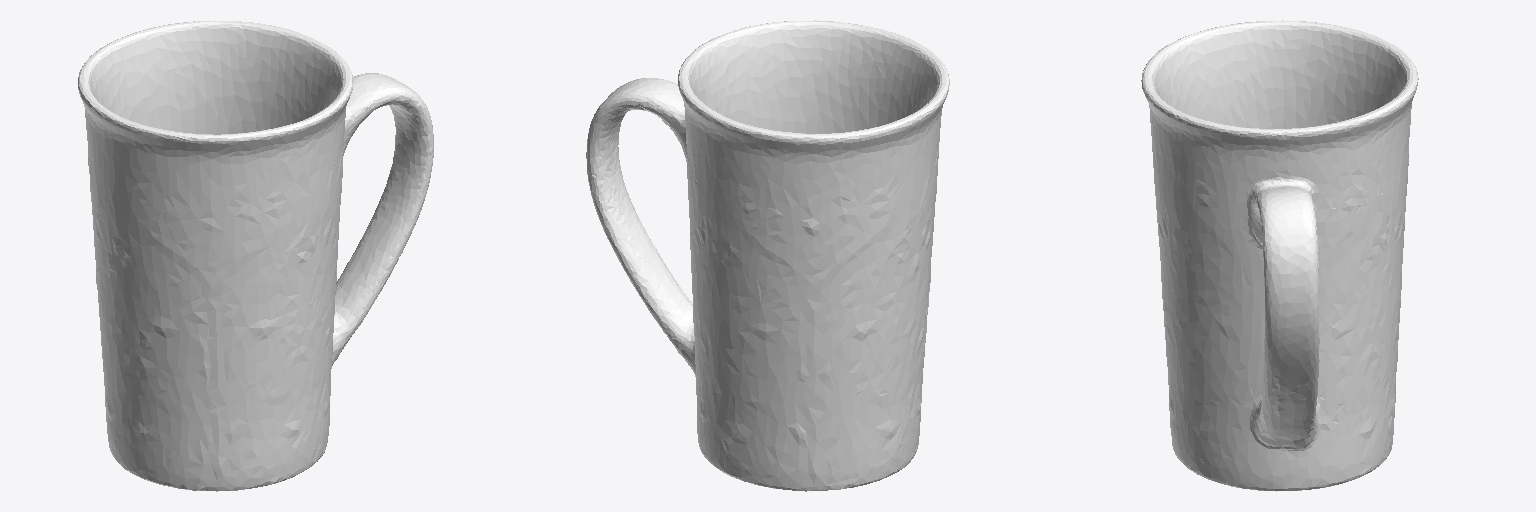
The robot description file, URDF, robot "model":
<?xml version="1.0" ?>
    <robot name="model">
    <link name="base">
        <inertial>
            <origin rpy="0 0 0" xyz="0 0 0"/>
            <mass value="1.0"/>
            <inertia ixx="1" ixy="0" ixz="0" iyy="1" iyz="0" izz="1"/>
        </inertial>
    <visual>
        <origin rpy="0 0 0" xyz="0 0 0"/>
        <geometry>
        <mesh filename="./meshes/model.obj" scale="1 1 1"/>
        </geometry>
        <material name="white">
        <color rgba="1 1 1 1"/>
        </material>
    </visual>
    <collision>
        <origin rpy="0 0 0" xyz="0 0 0"/>
        <geometry>
        <mesh filename="./meshes/model_vhacd.obj" scale="1 1 1"/>
        </geometry>
    </collision>
    </link>
    <link name="grasp">
        <inertial>
        <origin rpy="0 0 0" xyz="0 0 0"/>
        <mass value="0.0"/>
        <inertia ixx="1" ixy="0" ixz="0" iyy="1" iyz="0" izz="1"/>
        </inertial>
    </link>
    <joint name="base__grasp" type="fixed">
        <origin xyz="0.06 0.0 0.06" rpy="0.0 0.0 0.0"/>
        <parent link="base"/>
        <child link="grasp"/>
    </joint>
    </robot>

--- What the picture shows (computed from the rendered views, not written in the file) ---
The picture shows the robot from 3 angles, left to right: view 1: azimuth 30°, elevation 25°; view 2: azimuth 150°, elevation 25°; view 3: azimuth 270°, elevation 25°; orthographic projection.
Model model with 2 links and 1 joints (1 fixed), rooted at base, posed every joint at zero.
Links seen in each view (by area): view 1: base; view 2: base; view 3: base.
Link boxes in pixels (x1,y1,x2,y2): base: (78, 20, 433, 491); base: (586, 20, 949, 491); base: (1141, 20, 1418, 491).
Bounding box of the posed robot: 0.1263 × 0.0906 × 0.1349 m (x, y, z).
1 mesh visuals loaded from 1 distinct referenced files (1 OBJ).